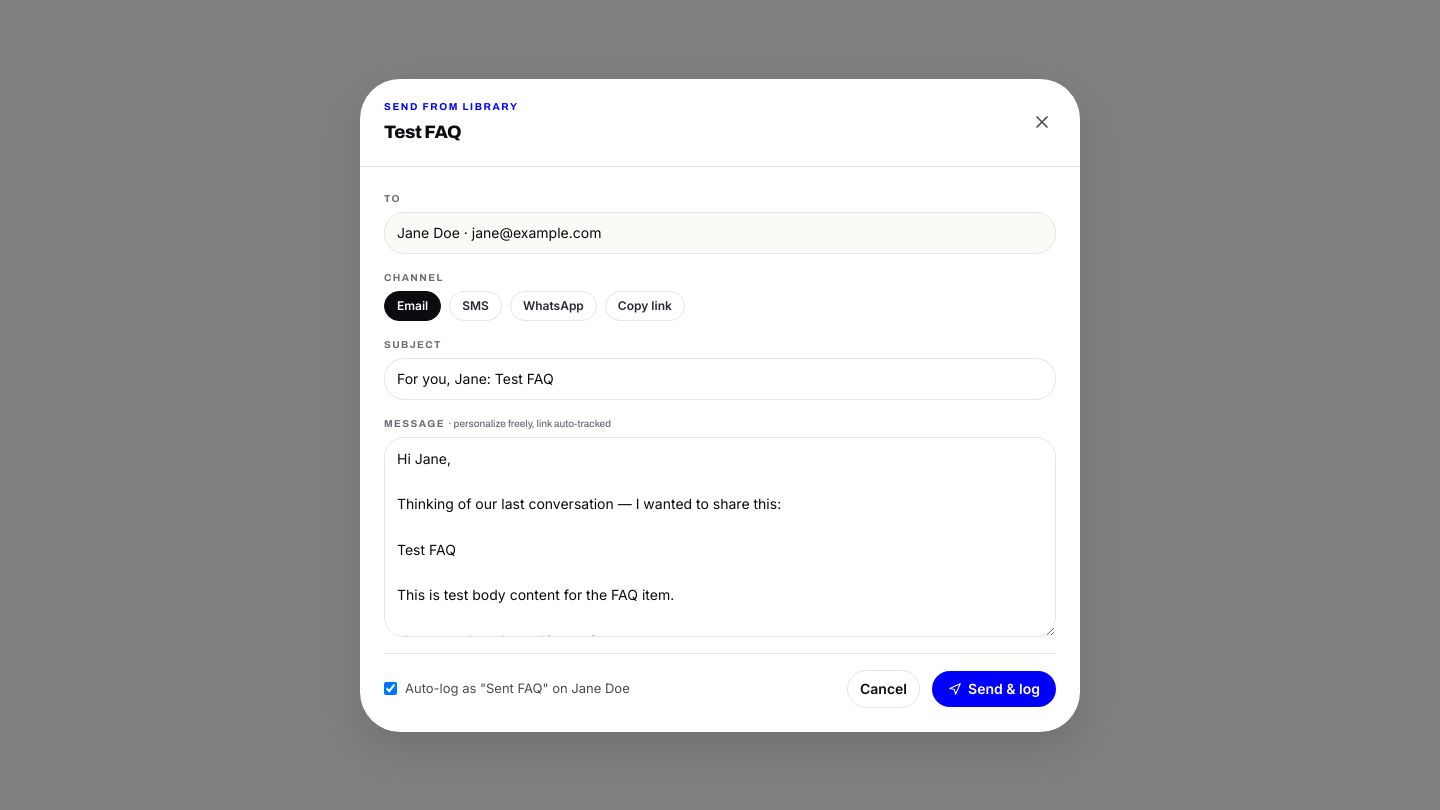
Scenario: SendComposer › subject field hidden for non-email channels
This screenshot has width=1440, height=810.
Expected: the element with test id "subject-field" is shown, [384,336,1056,400]
# Switch to SMS
Click the button with test id "channel-sms" at (476, 306), box [449,290,502,320]
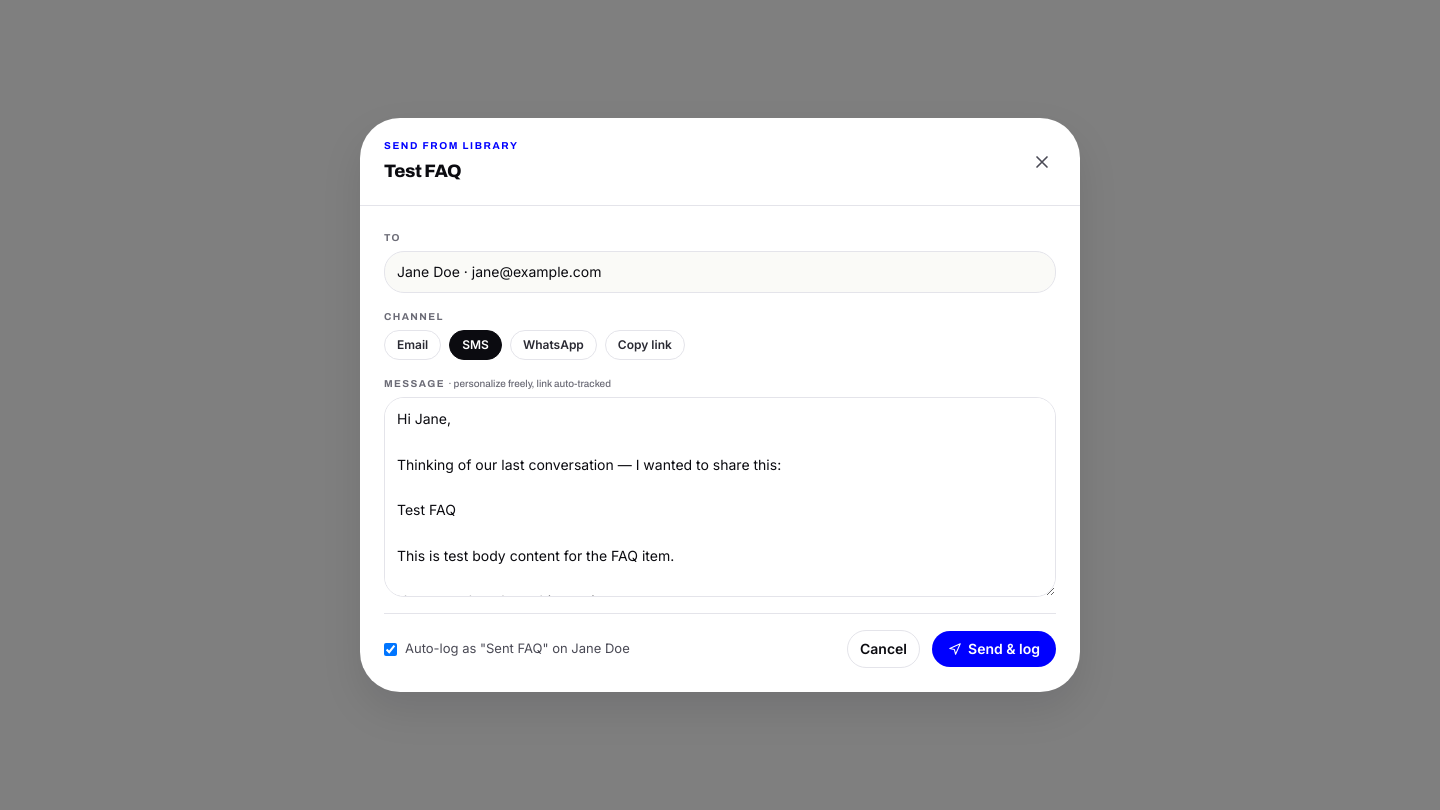
Expected: the element with test id "subject-field" is gone
# Switch to WhatsApp
Click the button with test id "channel-whatsapp" at (553, 345), box [510,330,597,360]
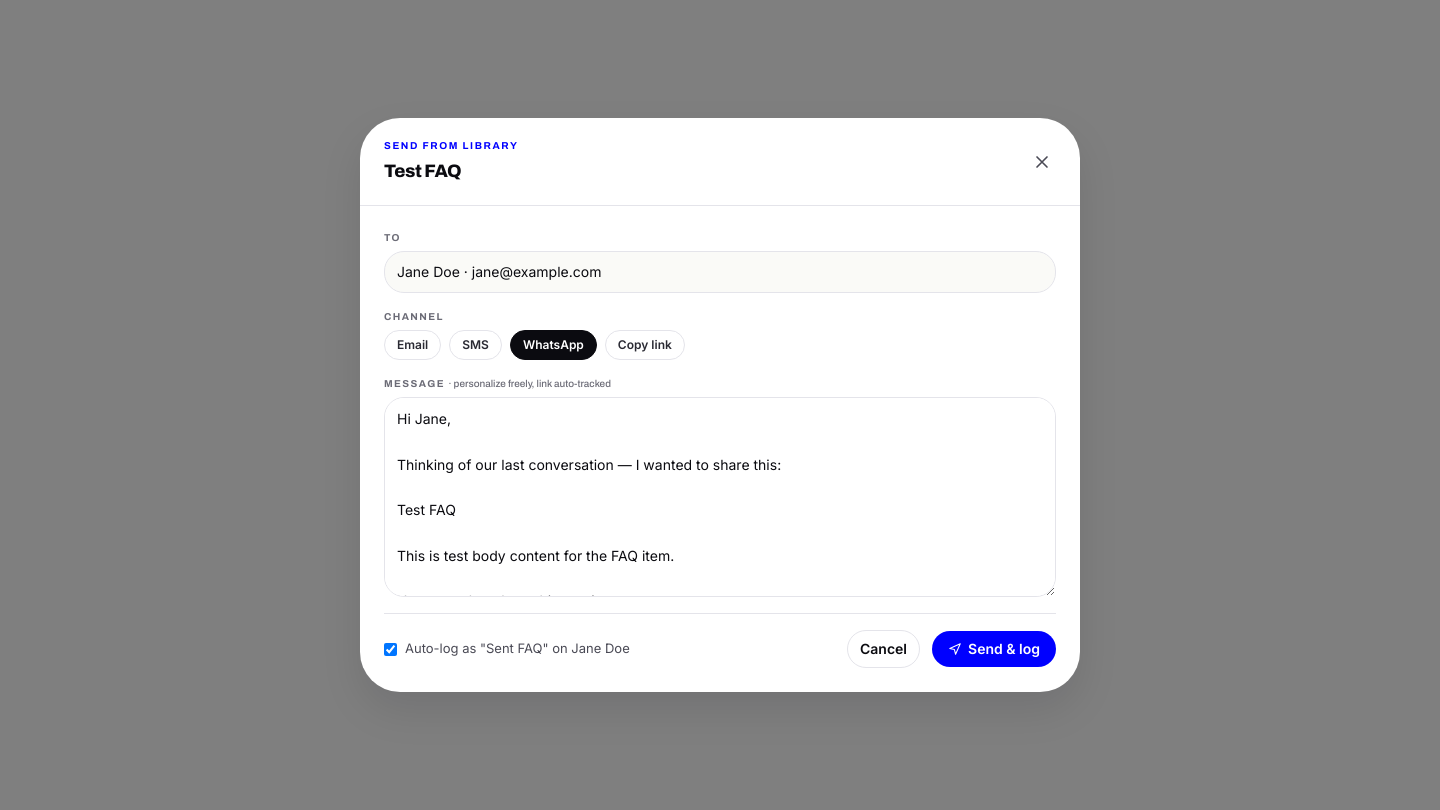
# Switch back to email
Click the button with test id "channel-email" at (413, 345), box [384,330,441,360]
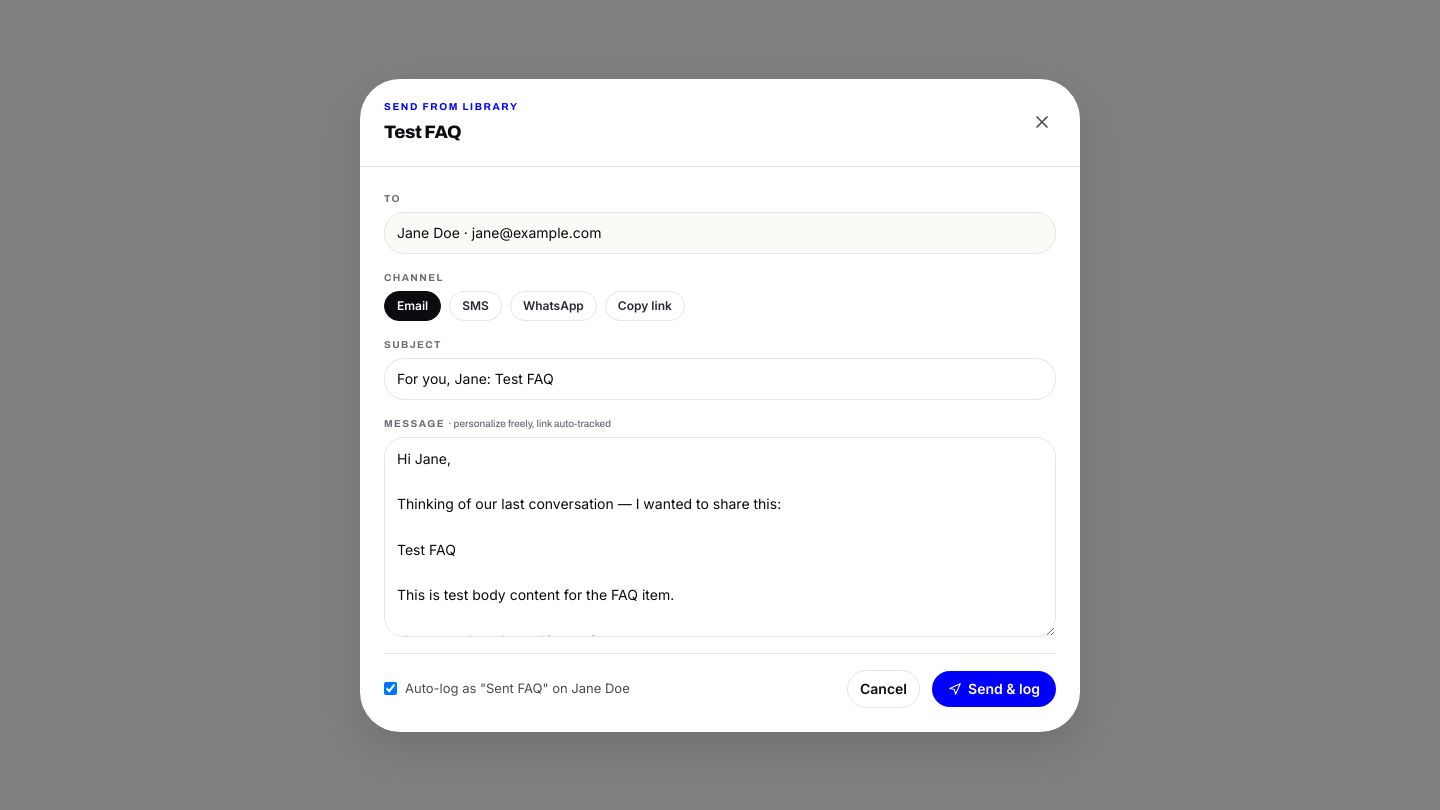
Expected: the element with test id "subject-field" is shown, [384,336,1056,400]
